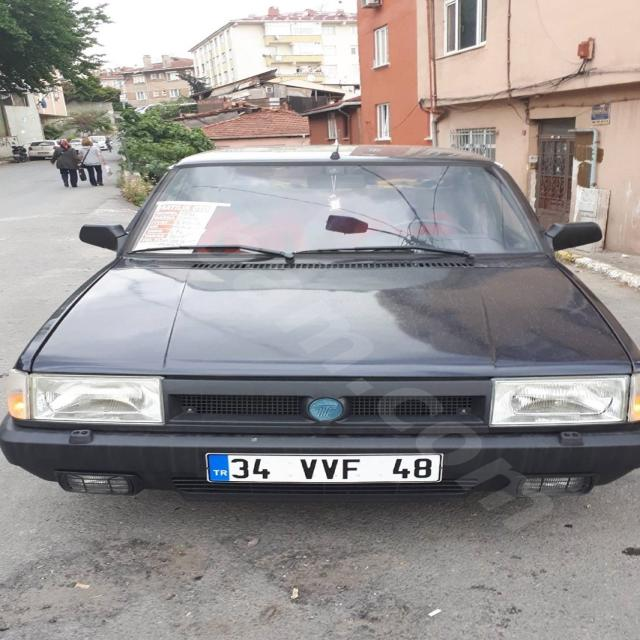license_plate: (203, 453, 442, 483)
